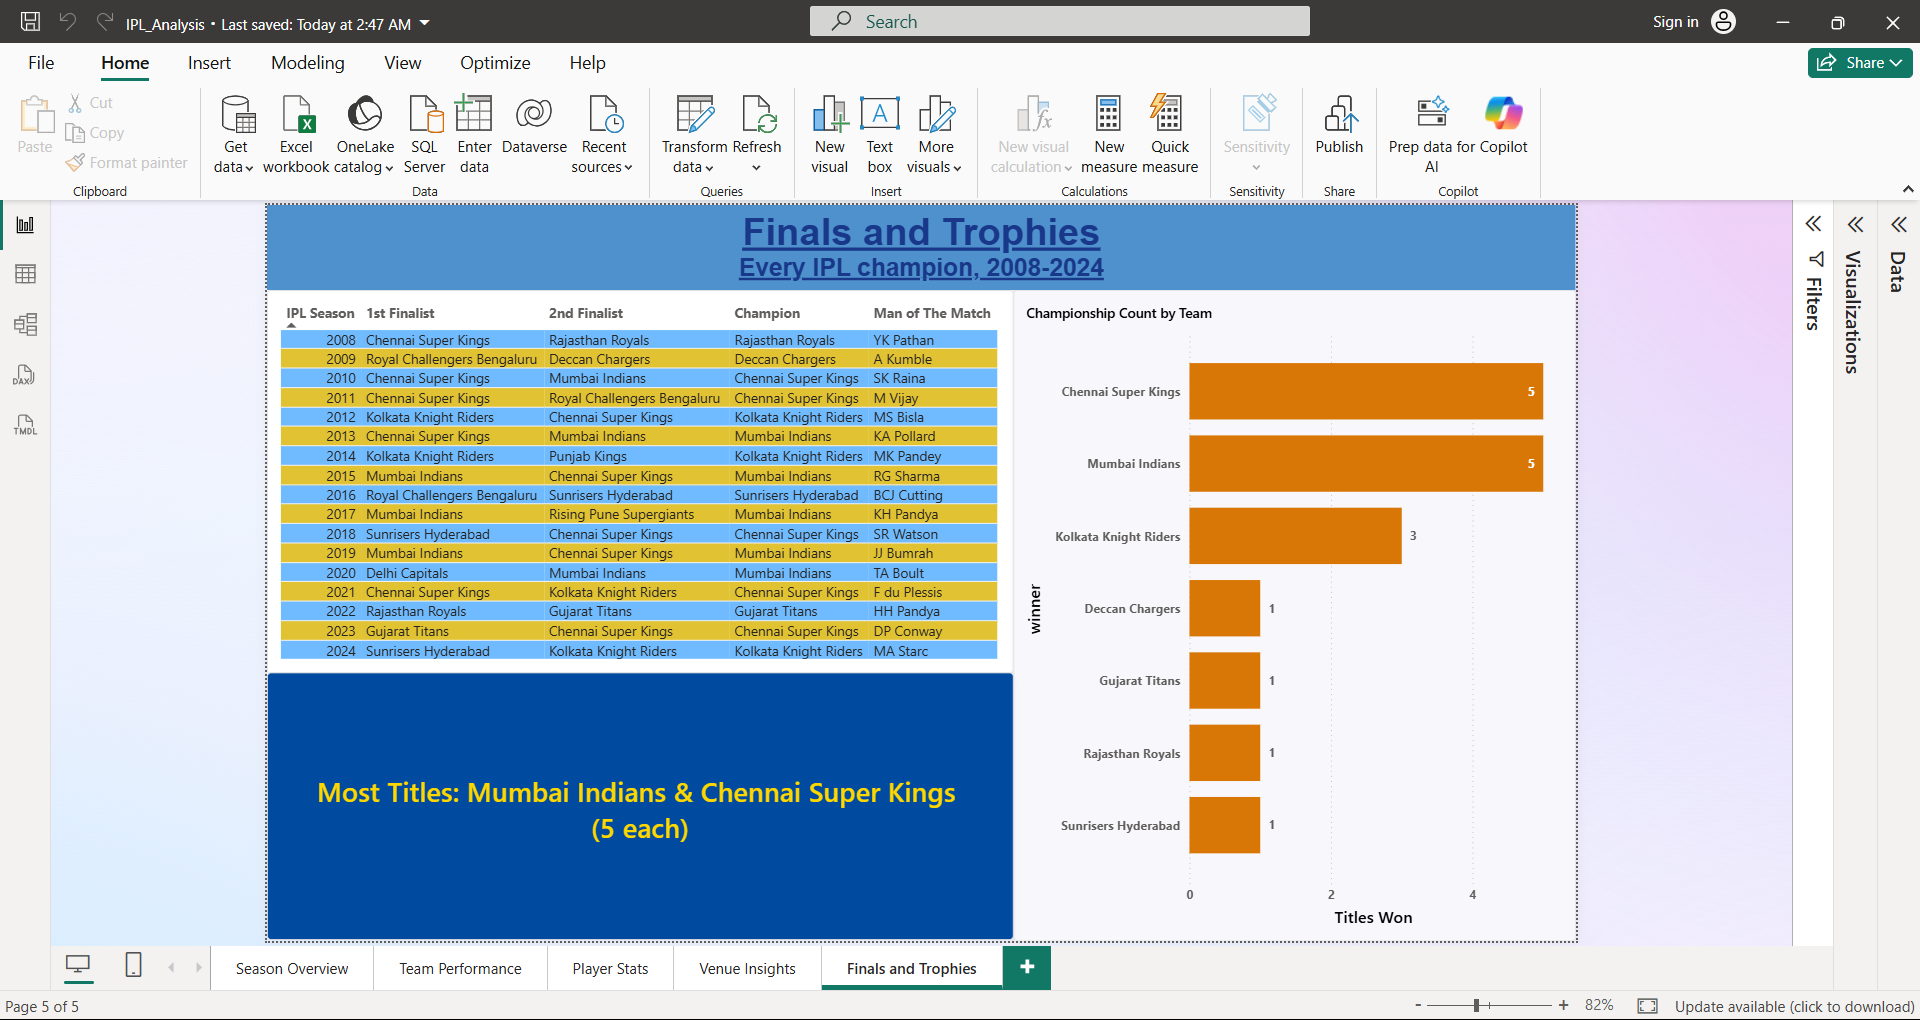

What the dashboard file says about the page in this screenshot:
{"tool":"powerbi","page":{"name":"Finals and Trophies","canvas":[1280,720],"ordinal":4},"visuals":[{"type":"tableEx","fields":{"Values":["dim_matches.season","dim_matches.team1","dim_matches.team2","dim_matches.winner","dim_matches.player_of_match"]},"box":[0,82.9,730.3,375],"z":0},{"type":"clusteredBarChart","title":"Championship Count by Team","fields":{"Category":["dim_matches.winner"],"Y":["CountNonNull(dim_matches.winner)"]},"box":[730.3,82.9,550,636.8],"z":1000},{"type":"card","fields":{"Values":["Measure.Most Titles Text"]},"box":[0,457.9,730.3,261.8],"z":2000},{"type":"textbox","box":[0,0,1280.3,82.9],"z":3000}]}

Visuals, with their boxes on the page's 1280x720 design canvas (x1, y1, x2, y2). These are canvas units, not pixel positions in the 1920x1020 screenshot, which may show the page scaled, cropped or inside an application window:
tableEx - dim_matches.season x dim_matches.team1: bbox(0, 83, 730, 458)
"Championship Count by Team" clusteredBarChart: bbox(730, 83, 1280, 720)
card - Measure.Most Titles Text: bbox(0, 458, 730, 720)
textbox: bbox(0, 0, 1280, 83)
